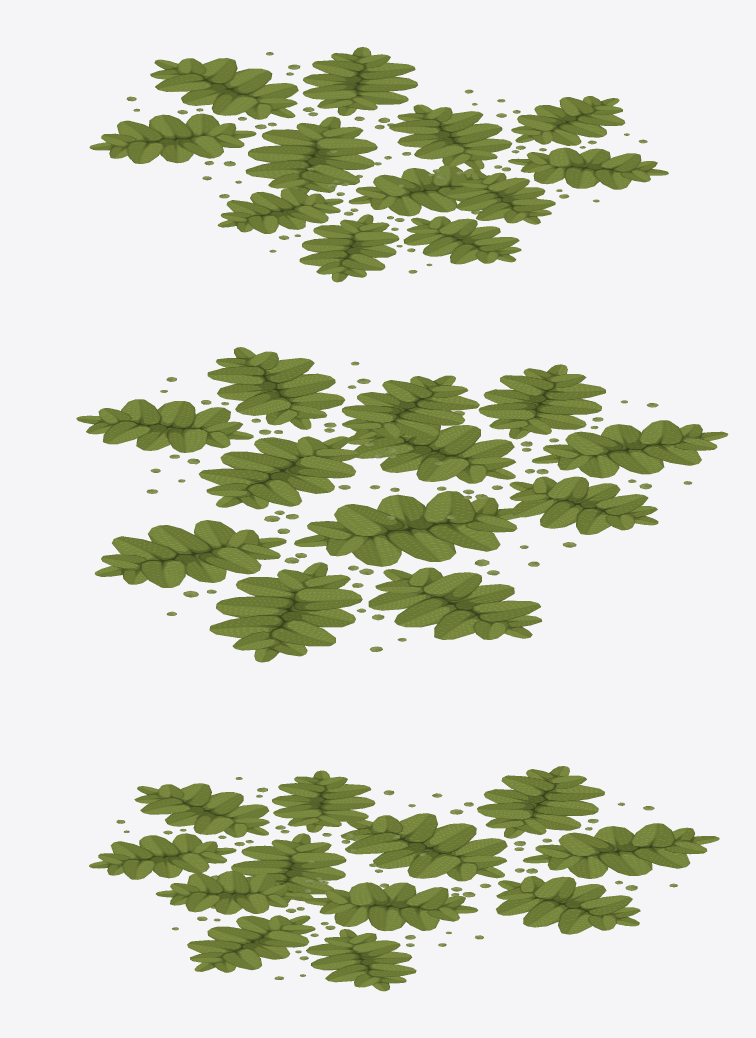
Rendered from SM_Leaves_On_Water_02.fbx.
3 views of the same model, one above another, from view 1: azimuth 30°, elevation 25°; view 2: azimuth 150°, elevation 25°; view 3: azimuth 270°, elevation 25° (orthographic). The views are drawn at different scales.
Parts seen in each view (by area): view 1: SM_Leaves_On_Water_02; view 2: SM_Leaves_On_Water_02; view 3: SM_Leaves_On_Water_02.
Boxes of the visible parts, left/top/right/bottom form: SM_Leaves_On_Water_02: left=89, top=47, right=668, bottom=282; SM_Leaves_On_Water_02: left=76, top=347, right=728, bottom=662; SM_Leaves_On_Water_02: left=89, top=766, right=719, bottom=991.
Bounding box in the file's own units: 116 × 0.6608 × 126.
